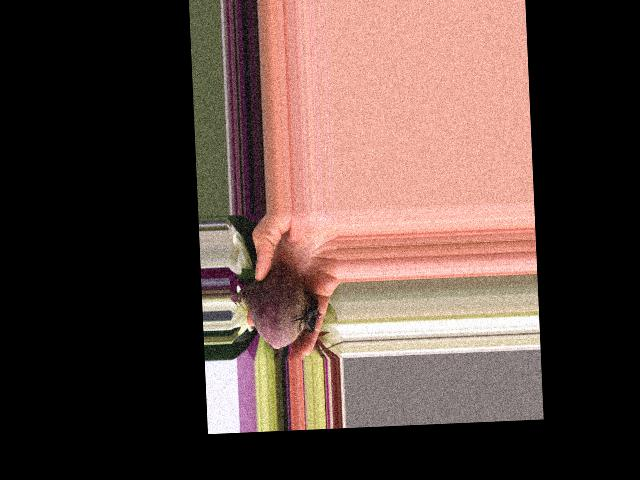beet: (228, 266, 323, 350)
